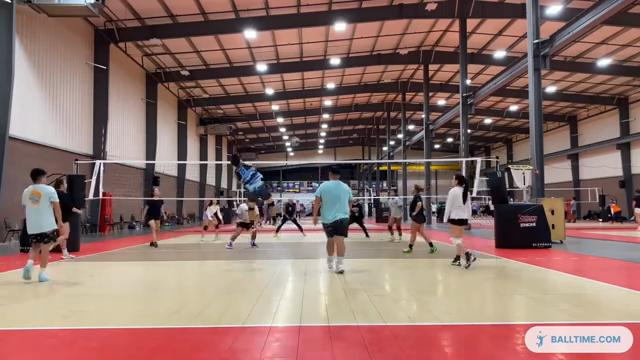Attack: (222, 150, 281, 229)
Player: (22, 168, 61, 281), (313, 167, 352, 273), (444, 174, 475, 267), (50, 178, 81, 259), (403, 184, 436, 252), (226, 202, 258, 248), (143, 188, 165, 247), (275, 199, 305, 235), (201, 200, 221, 240), (349, 199, 369, 237), (388, 190, 402, 241)
ball: (290, 134, 300, 149)
